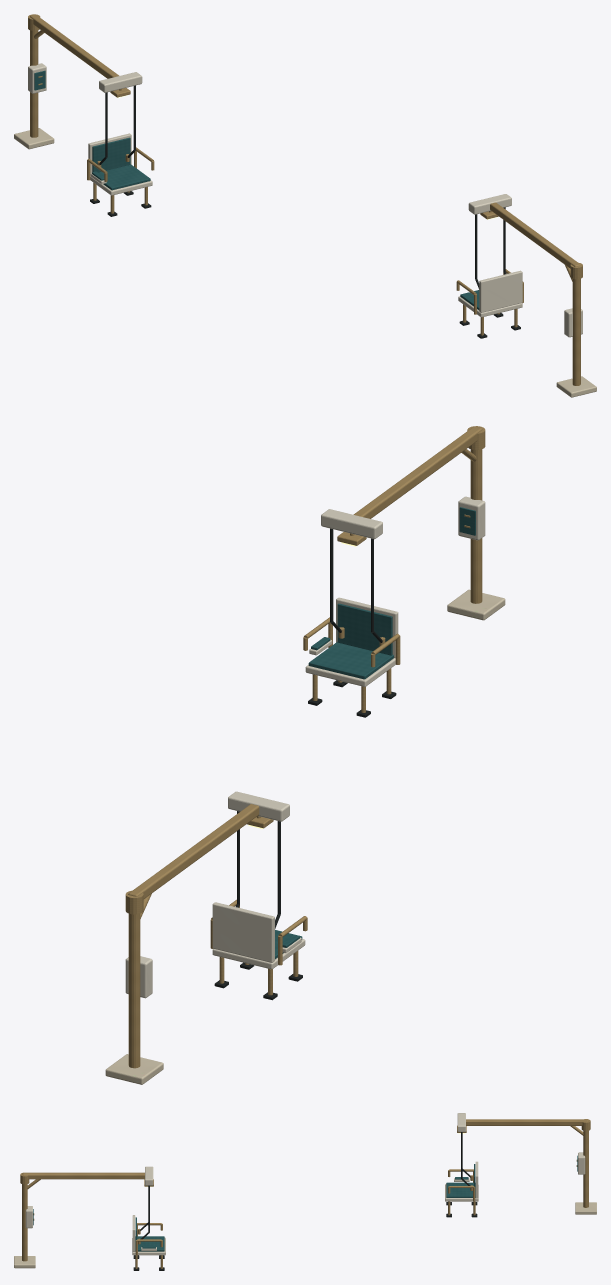
Rendered from Group6ThermalSupport_03_r003.glb.
3 renders of one model, top to bottom at view 1: azimuth 30°, elevation 25°; view 2: azimuth 150°, elevation 25°; view 3: azimuth 270°, elevation 25°, orthographic. The views are drawn at different scales.
Parts seen in each view (by area): view 1: G6_SUPPORT_03__station_1_seat_back_load, G6_SUPPORT_03__station_1_parked_lift_arm, G6_SUPPORT_03__station_0_parked_lift_arm, G6_SUPPORT_03__station_0_seat_back_pad, G6_SUPPORT_03__station_1_mast_load_column, G6_SUPPORT_03__station_0_seat_pad, G6_SUPPORT_03__station_0_mast_load_column, G6_SUPPORT_03__station_0_parked_head, G6_SUPPORT_03__station_0_mast_floor_anchor, G6_SUPPORT_03__station_1_parked_head, G6_SUPPORT_03__station_1_mast_floor_anchor; view 2: G6_SUPPORT_03__station_0_seat_back_load, G6_SUPPORT_03__station_0_parked_lift_arm, G6_SUPPORT_03__station_1_parked_lift_arm, G6_SUPPORT_03__station_0_mast_load_column, G6_SUPPORT_03__station_1_seat_back_pad, G6_SUPPORT_03__station_1_seat_pad, G6_SUPPORT_03__station_1_mast_load_column, G6_SUPPORT_03__station_1_parked_head, G6_SUPPORT_03__station_1_mast_floor_anchor, G6_SUPPORT_03__station_0_mast_floor_anchor, G6_SUPPORT_03__station_0_parked_head; view 3: G6_SUPPORT_03__station_1_parked_lift_arm, G6_SUPPORT_03__station_0_parked_lift_arm, G6_SUPPORT_03__station_1_mast_load_column, G6_SUPPORT_03__station_0_mast_load_column, G6_SUPPORT_03__station_0_seat_pad, G6_SUPPORT_03__station_1_seat_pad, G6_SUPPORT_03__station_0_mast_floor_anchor, G6_SUPPORT_03__station_1_mast_floor_anchor.
Part boxes in pixels (<box>): G6_SUPPORT_03__station_1_seat_back_load: <box>479,270,522,312</box>; G6_SUPPORT_03__station_1_parked_lift_arm: <box>490,202,580,268</box>; G6_SUPPORT_03__station_0_parked_lift_arm: <box>30,14,119,78</box>; G6_SUPPORT_03__station_0_seat_back_pad: <box>92,137,130,172</box>; G6_SUPPORT_03__station_1_mast_load_column: <box>572,278,580,385</box>; G6_SUPPORT_03__station_0_seat_pad: <box>98,164,150,190</box>; G6_SUPPORT_03__station_0_mast_load_column: <box>30,30,38,137</box>; G6_SUPPORT_03__station_0_parked_head: <box>99,72,142,92</box>; G6_SUPPORT_03__station_0_mast_floor_anchor: <box>14,128,54,149</box>; G6_SUPPORT_03__station_1_parked_head: <box>468,194,511,214</box>; G6_SUPPORT_03__station_1_mast_floor_anchor: <box>556,376,596,397</box>; G6_SUPPORT_03__station_0_seat_back_load: <box>212,902,274,962</box>; G6_SUPPORT_03__station_0_parked_lift_arm: <box>128,804,259,898</box>; G6_SUPPORT_03__station_1_parked_lift_arm: <box>353,426,482,518</box>; G6_SUPPORT_03__station_0_mast_load_column: <box>128,913,140,1068</box>; G6_SUPPORT_03__station_1_seat_back_pad: <box>337,603,392,655</box>; G6_SUPPORT_03__station_1_seat_pad: <box>308,642,393,679</box>; G6_SUPPORT_03__station_1_mast_load_column: <box>470,449,482,603</box>; G6_SUPPORT_03__station_1_parked_head: <box>321,509,382,539</box>; G6_SUPPORT_03__station_1_mast_floor_anchor: <box>447,589,505,620</box>; G6_SUPPORT_03__station_0_mast_floor_anchor: <box>105,1054,163,1084</box>; G6_SUPPORT_03__station_0_parked_head: <box>228,791,289,821</box>; G6_SUPPORT_03__station_1_parked_lift_arm: <box>22,1172,144,1179</box>; G6_SUPPORT_03__station_0_parked_lift_arm: <box>466,1119,588,1125</box>; G6_SUPPORT_03__station_1_mast_load_column: <box>22,1184,27,1261</box>; G6_SUPPORT_03__station_0_mast_load_column: <box>583,1130,588,1207</box>; G6_SUPPORT_03__station_0_seat_pad: <box>446,1182,475,1197</box>; G6_SUPPORT_03__station_1_seat_pad: <box>135,1236,164,1251</box>; G6_SUPPORT_03__station_0_mast_floor_anchor: <box>575,1202,596,1214</box>; G6_SUPPORT_03__station_1_mast_floor_anchor: <box>14,1256,35,1268</box>.
Size of the model in its own units: 3.71 by 2.22 by 12.88.
Materials: 6 (5 with a texture image).
